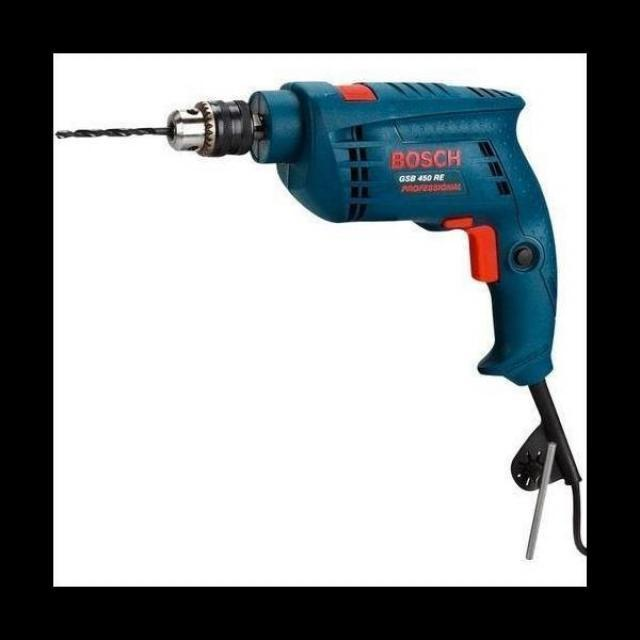drill: (54, 80, 582, 492)
